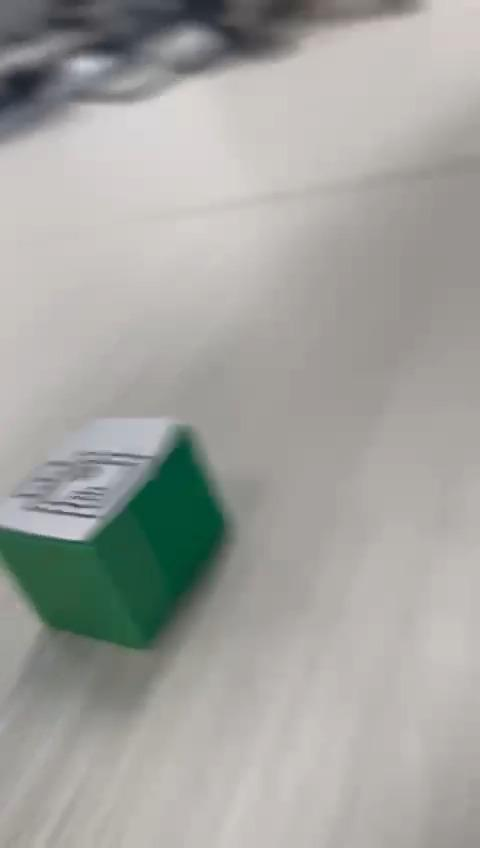Gauze: (0, 415, 229, 650)
